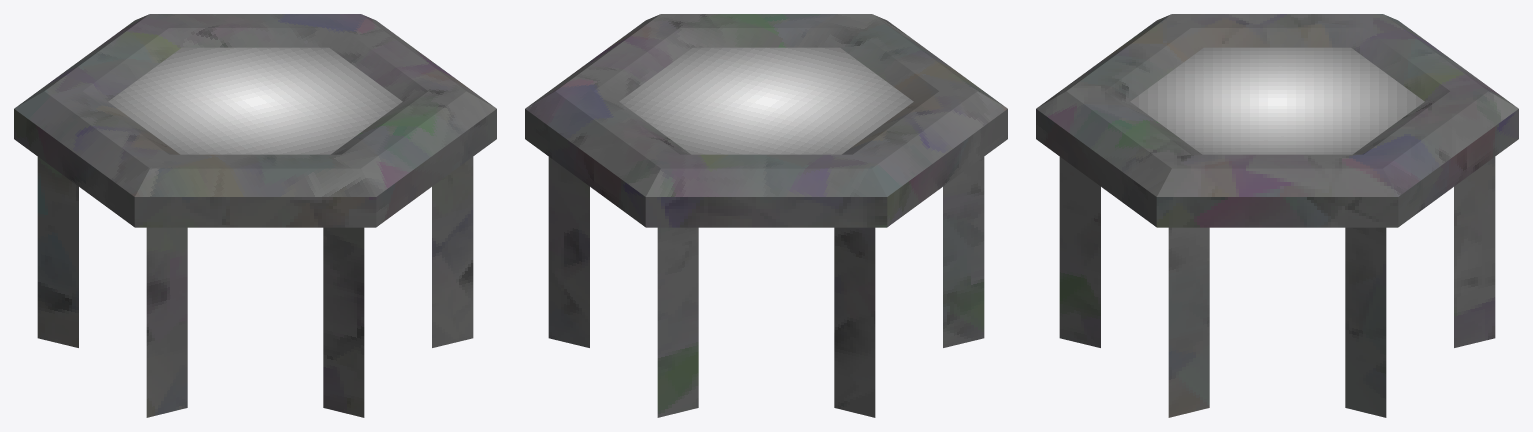
File: heart_shift.glb
3 renders of one model, left to right at view 1: azimuth 30°, elevation 25°; view 2: azimuth 150°, elevation 25°; view 3: azimuth 270°, elevation 25°, orthographic.
Parts seen in each view (by area): view 1: heart_shift; view 2: heart_shift; view 3: heart_shift.
Boxes of the visible parts, x1,y1,x2,y2 form: heart_shift: (14,14,496,417); heart_shift: (525,14,1007,417); heart_shift: (1036,14,1518,417).
Size of what is drawn, in the model's own units: 0.2165 by 0.1411 by 0.25.
1 material, 1 textured.
